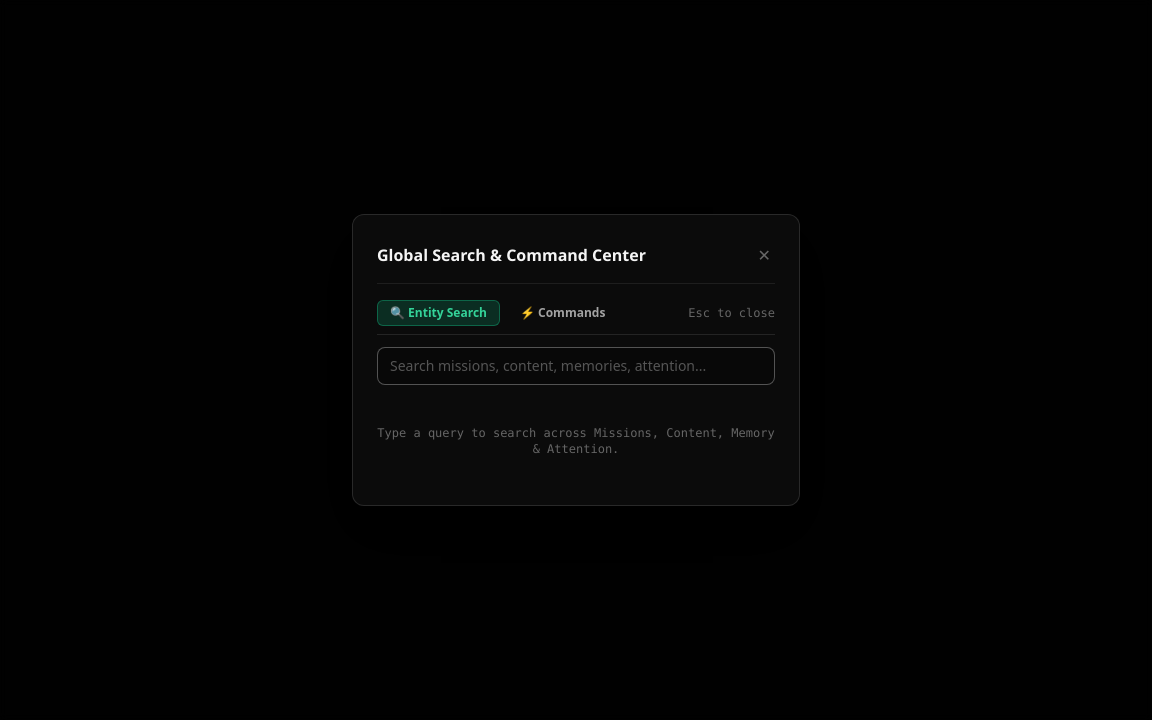
Scenario: Command Palette & Search Component › renders search and command tabs and supports mode switching
This screenshot has width=1152, height=720.
Expected: the button "🔍 Entity Search" is shown, left=377, top=300, right=500, bottom=326
# Switch to Command Mode
Click the button "⚡ Commands" at x=563, y=313, box left=508, top=301, right=617, bottom=325
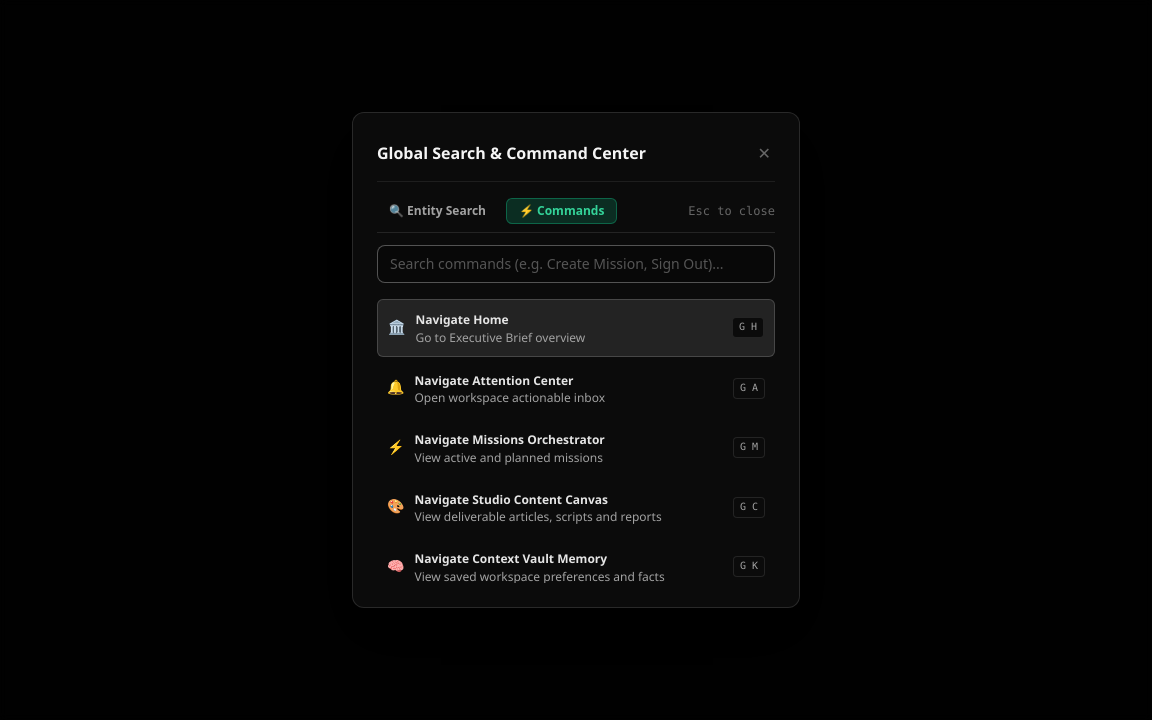
Result: the text "Navigate Home" is shown at left=416, top=311, right=509, bottom=328
